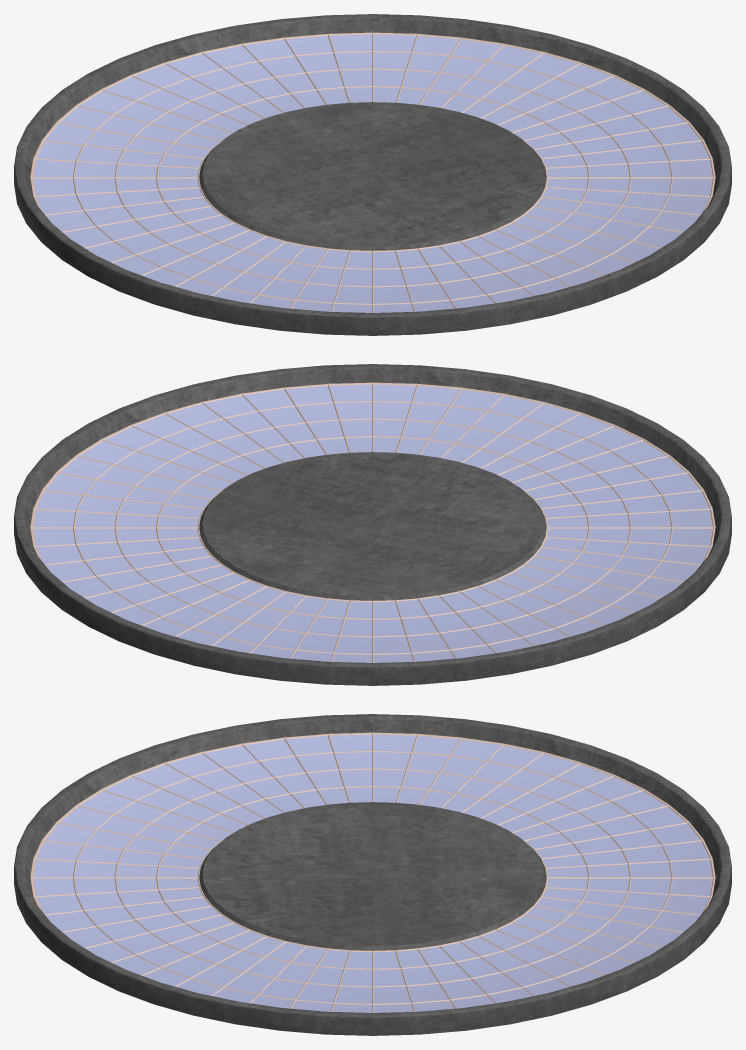
The model's file is BatteryPodium.fbx.
3 renders of one model, top to bottom at view 1: azimuth 30°, elevation 25°; view 2: azimuth 150°, elevation 25°; view 3: azimuth 270°, elevation 25°, orthographic.
Parts seen in each view (by area): view 1: BatteryPodium; view 2: BatteryPodium; view 3: BatteryPodium.
Boxes of the visible parts, box(x1,y1,x2,y2) form: BatteryPodium: box(14, 14, 731, 335); BatteryPodium: box(14, 364, 731, 685); BatteryPodium: box(14, 714, 731, 1035).
Size of the model in its own units: 8.62 by 0.2535 by 8.62.
3 materials, 1 textured.
